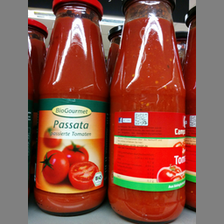tomato_sauce: (109, 1, 189, 224), (34, 1, 109, 216)
